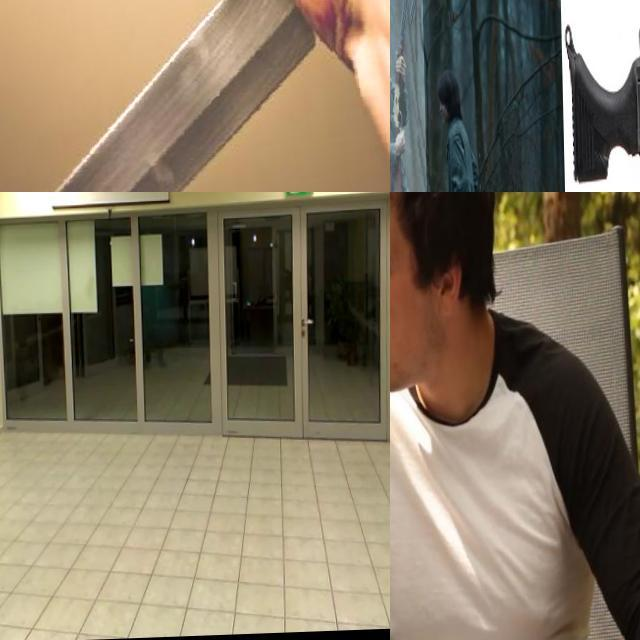-: (0, 0, 390, 192)
gun-knife-thesis - v11 Yolov5 augmented: (562, 0, 640, 192), (390, 0, 426, 192), (0, 351, 19, 393)
